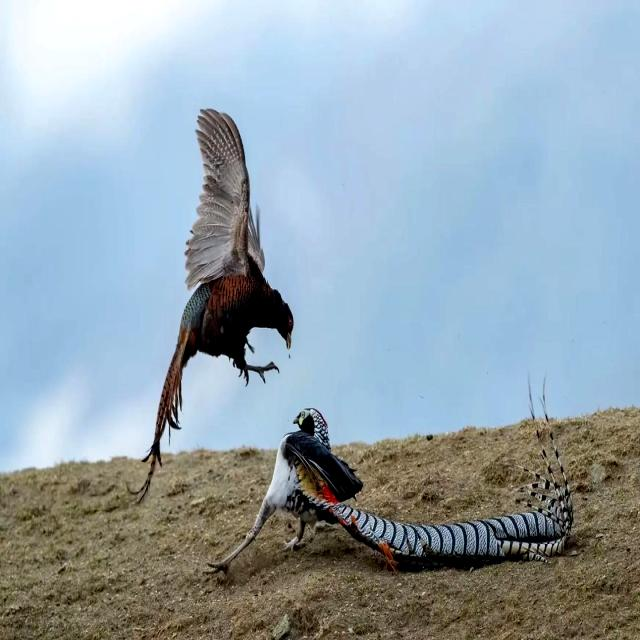Chrysolophus amherstiae: (310, 431, 574, 569)
